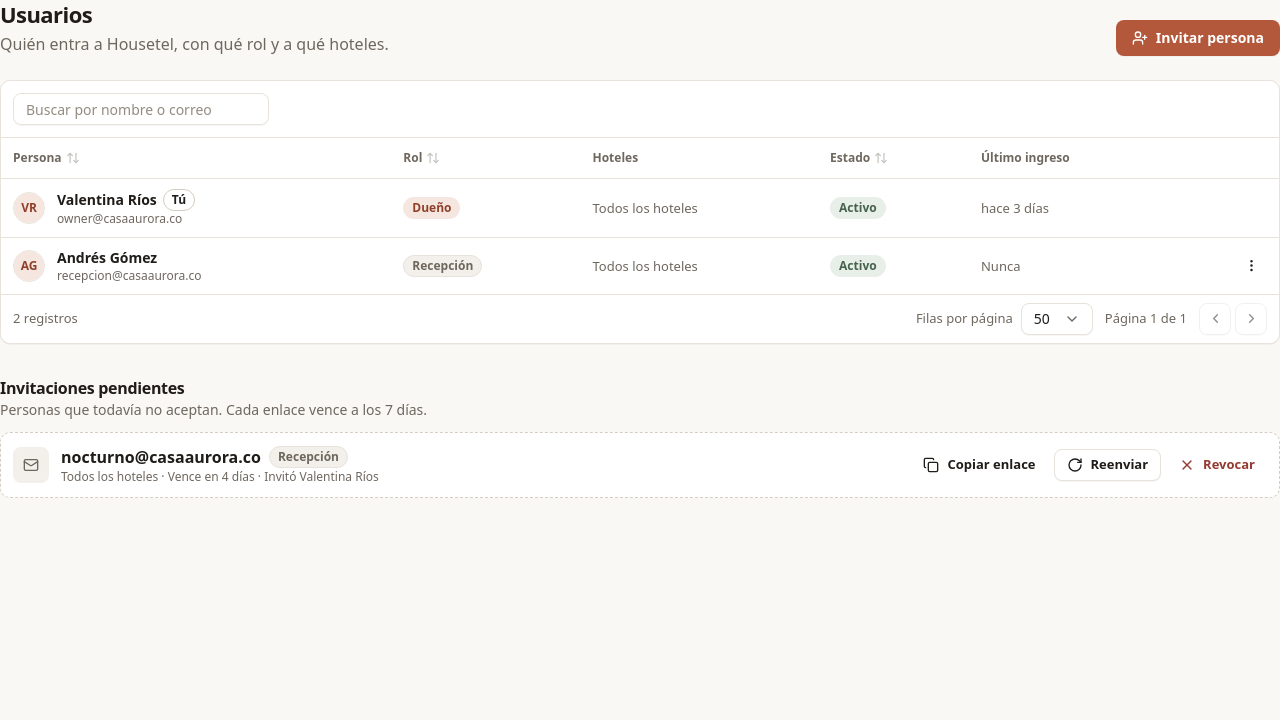
Test: UsersPage › shows the link to share by hand when the email could not be sent
Click the button "Invitar persona".
click(1198, 38)  # box [1116, 20, 1279, 56]
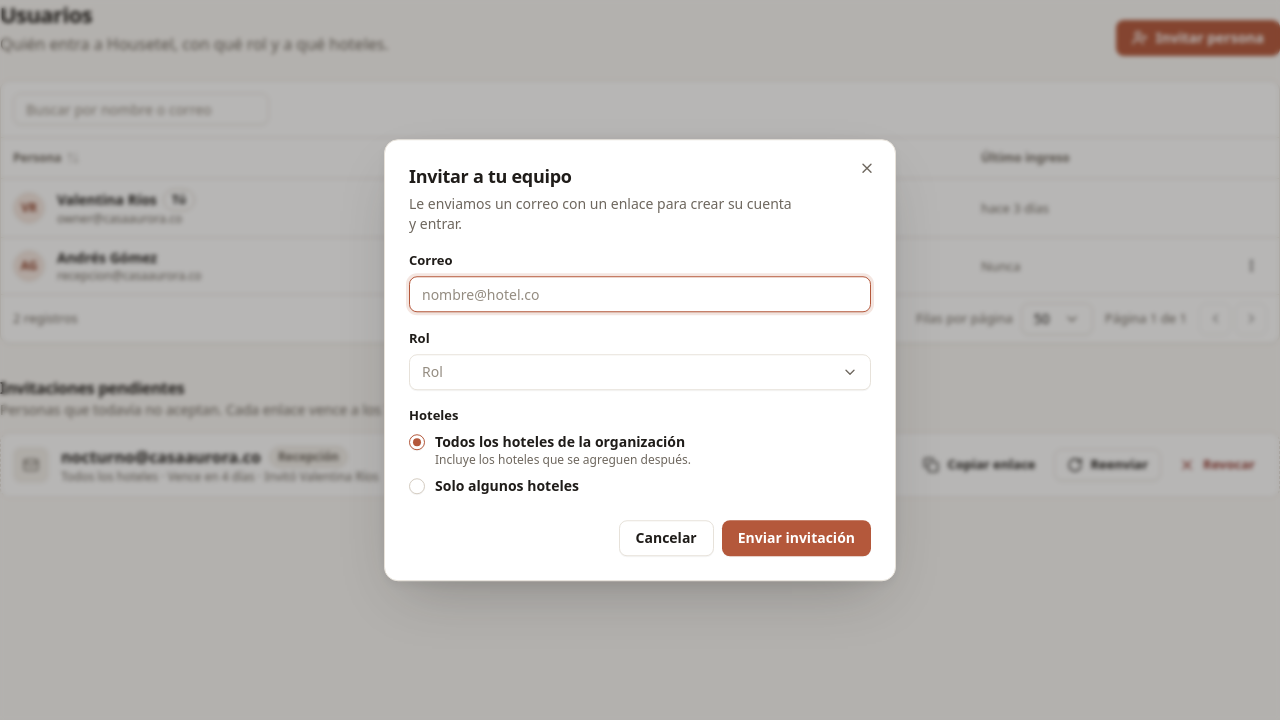
Type "nueva@hotel.co" into the field labelled "Correo".
click(640, 294); type("nueva@hotel.co")  # box [409, 276, 871, 312]
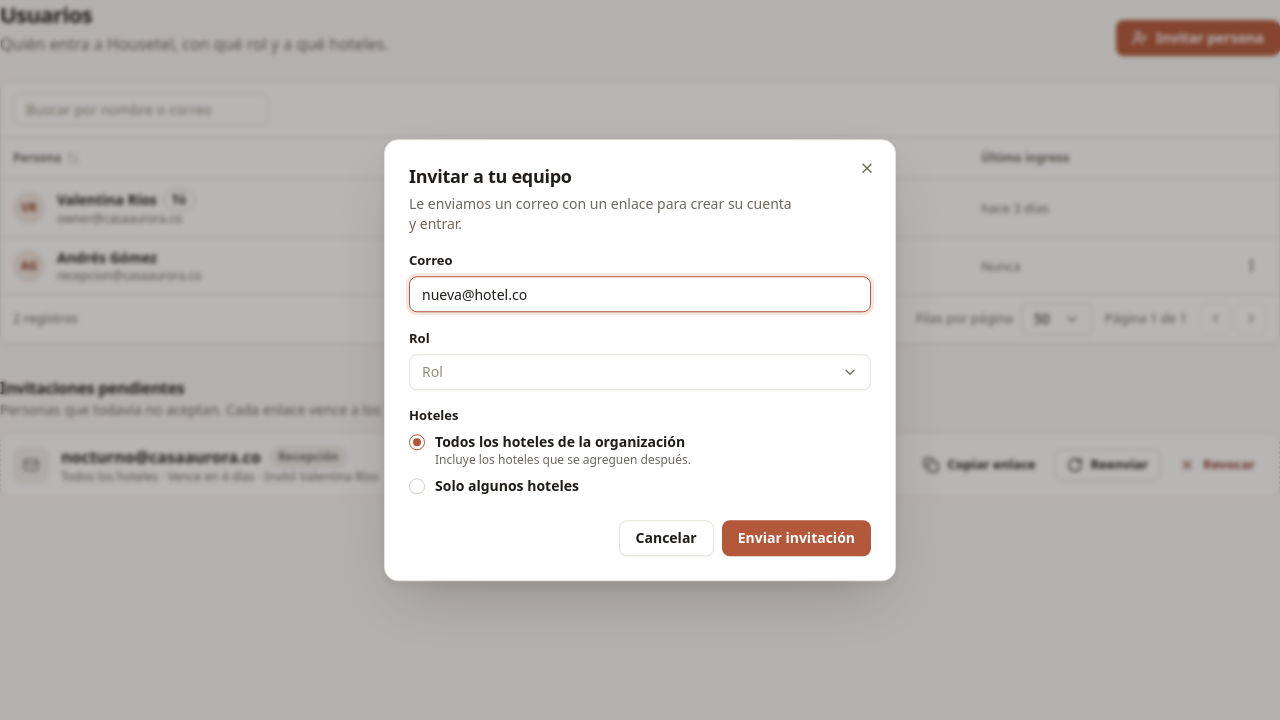
Click the dropdown labelled "Rol".
click(432, 372)  # box [409, 354, 871, 390]
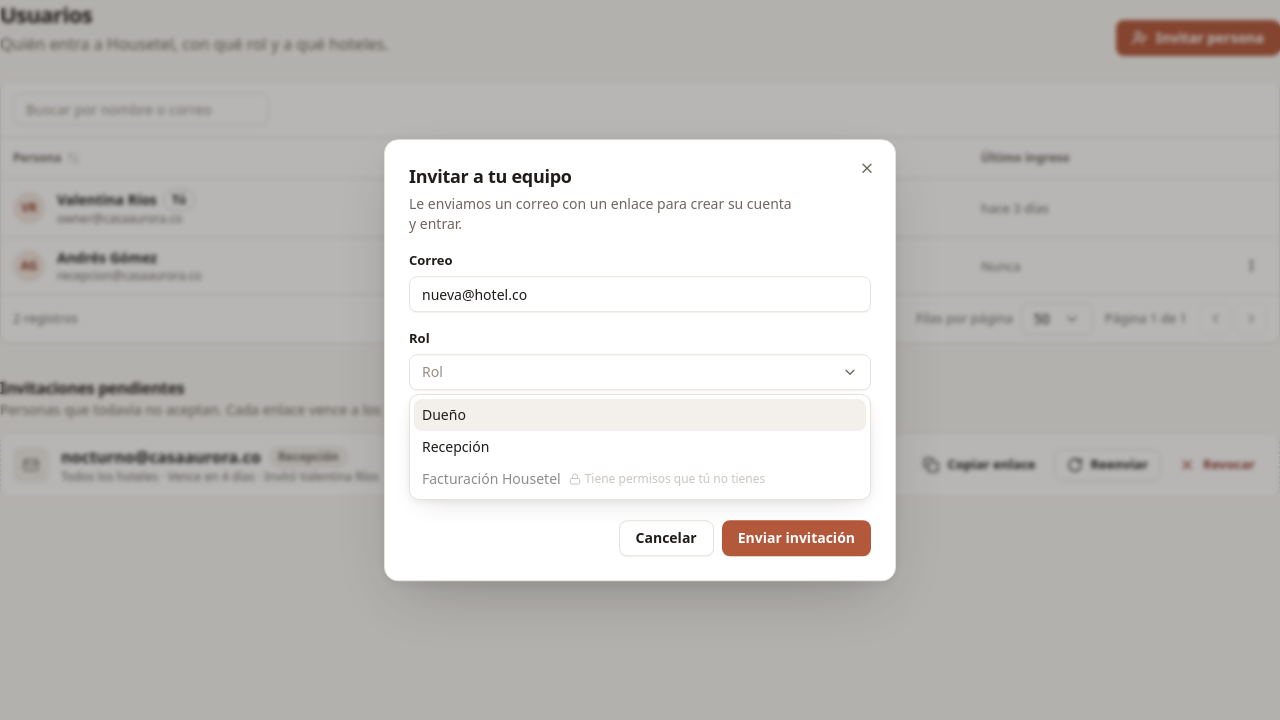
Click the option "Recepción".
click(456, 446)  # box [422, 437, 489, 456]
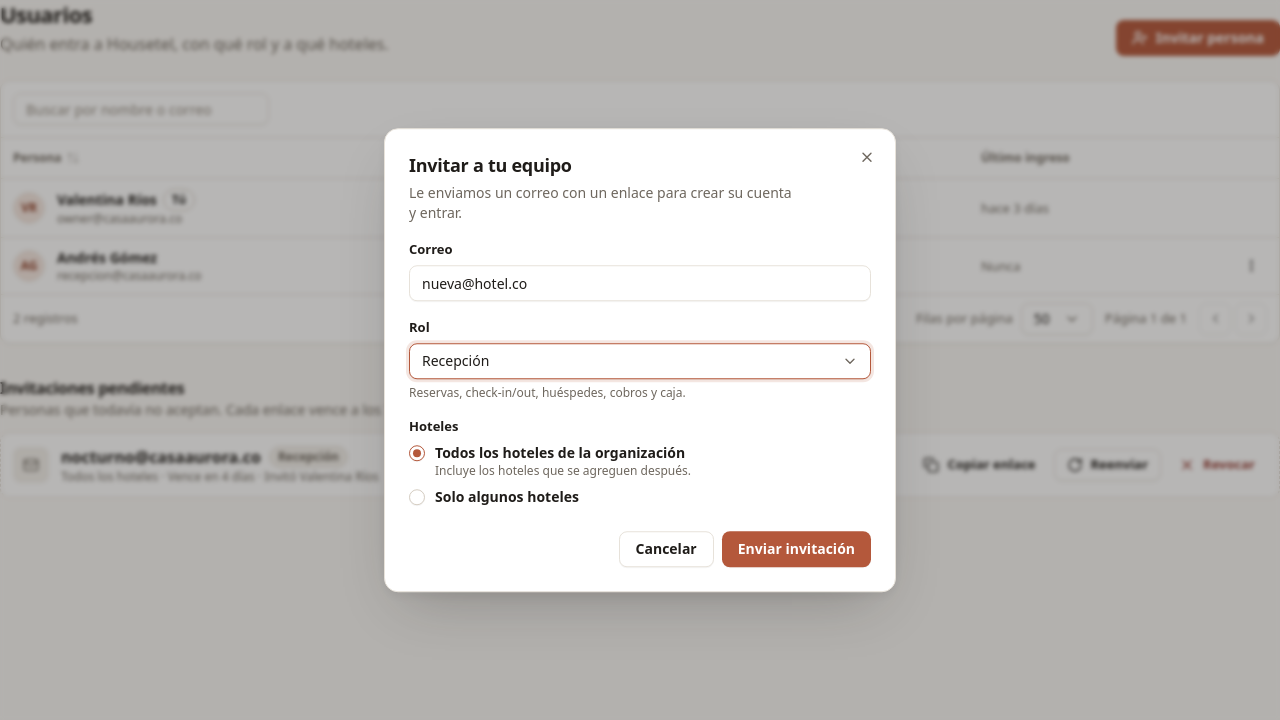
Click the button "Enviar invitación".
click(796, 549)  # box [722, 531, 871, 567]
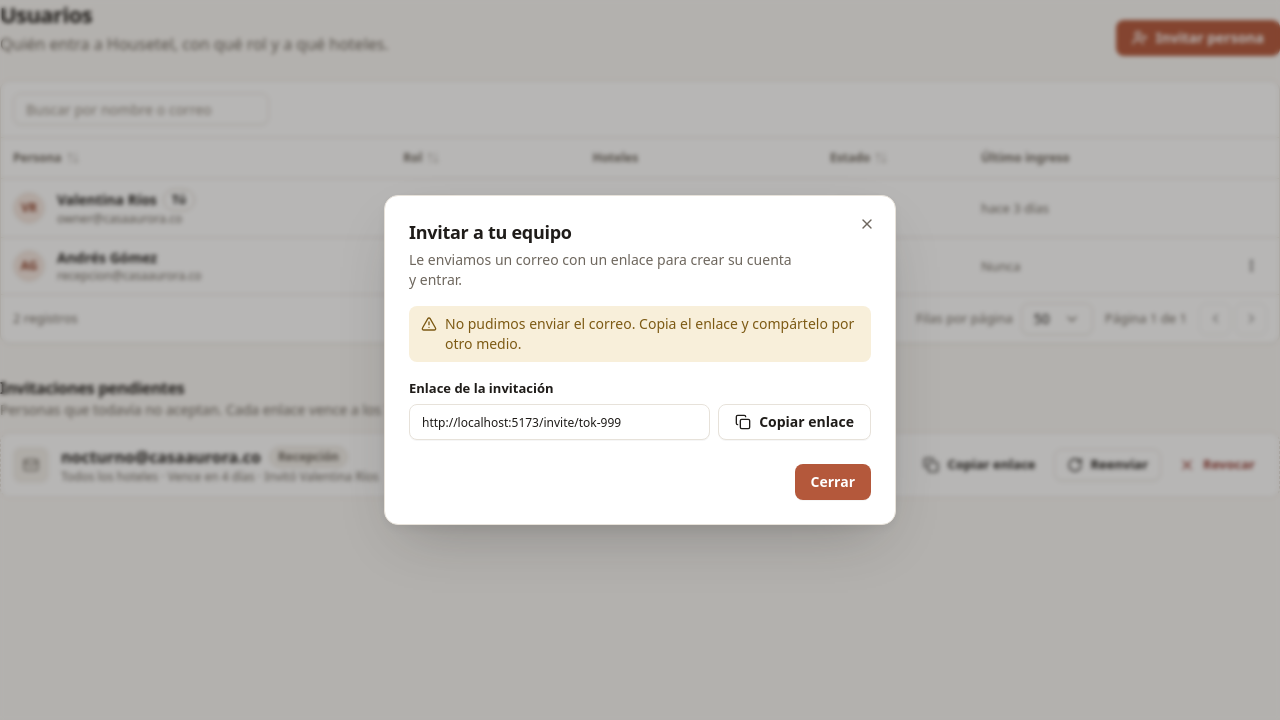
Expected: the text "No pudimos enviar el correo. Copia el enlace y compártelo por otro medio." is shown, [409, 306, 871, 362]
Expected: the field labelled "Enlace de la invitación" holds "http://localhost:5173/invite/tok-999", [409, 404, 710, 440]
